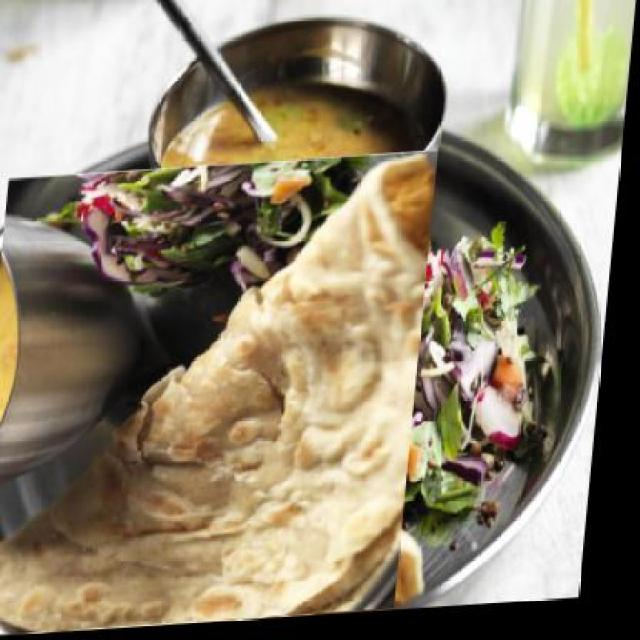chapati: (0, 168, 457, 638)
